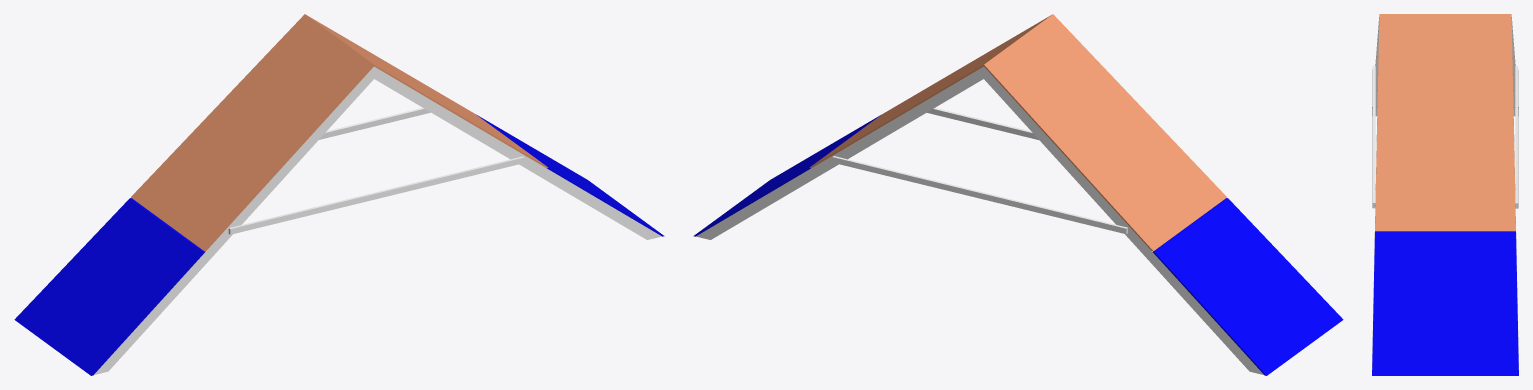
The model's file is aframe.fbx.
3 views of the same model, side by side, from view 1: azimuth 30°, elevation 25°; view 2: azimuth 150°, elevation 25°; view 3: azimuth 270°, elevation 25° (orthographic). The views are drawn at different scales.
Parts seen in each view (by area): view 1: Part 1, Part 1.001, Part 1.003, Part 1.002, Part 2, Part 1.004; view 2: Part 1, Part 1.001, Part 1.003, Part 1.004, Part 2, Part 1.002; view 3: Part 1, Part 2, Part 1.003, Part 1.002, Part 1.004.
Part boxes in pixels (x1,y1,x2,y2): Part 1: (131, 14, 547, 251); Part 1.001: (14, 198, 205, 375); Part 1.003: (94, 66, 661, 374); Part 1.002: (228, 156, 524, 234); Part 2: (476, 114, 664, 236); Part 1.004: (319, 107, 430, 139); Part 1: (810, 14, 1226, 251); Part 1.001: (1152, 198, 1343, 375); Part 1.003: (696, 66, 1263, 374); Part 1.004: (832, 156, 1127, 234); Part 2: (693, 114, 881, 236); Part 1.002: (927, 108, 1038, 139); Part 1: (1375, 14, 1515, 231); Part 2: (1372, 231, 1518, 375); Part 1.003: (1372, 19, 1518, 369); Part 1.002: (1372, 65, 1375, 208); Part 1.004: (1515, 66, 1518, 208).
Bounding box in the file's own units: 431 × 171 × 100.
